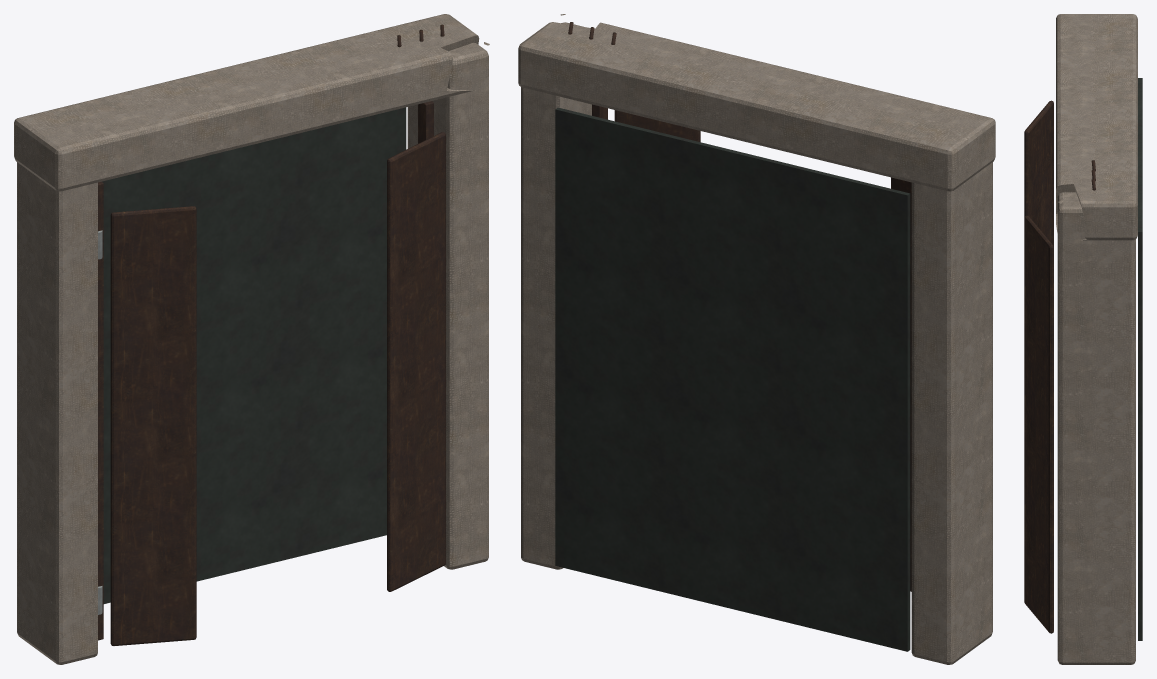
Rendered from lod0_NOT_APPROVED.glb.
3 views of the same model, side by side, from view 1: azimuth 30°, elevation 25°; view 2: azimuth 150°, elevation 25°; view 3: azimuth 270°, elevation 25° (orthographic). The views are drawn at different scales.
Parts seen in each view (by area): view 1: f3_weathered_concrete_surface, f3_deep_crack_surface, f3_oxidized_iron_surface; view 2: f3_deep_crack_surface, f3_weathered_concrete_surface, f3_oxidized_iron_surface; view 3: f3_weathered_concrete_surface, f3_oxidized_iron_surface, f3_deep_crack_surface.
Part boxes in pixels (x1=…): f3_weathered_concrete_surface: x1=14, y1=14, x2=489, y2=664; f3_deep_crack_surface: x1=102, y1=107, x2=406, y2=603; f3_oxidized_iron_surface: x1=98, y1=24, x2=445, y2=645; f3_deep_crack_surface: x1=555, y1=107, x2=910, y2=651; f3_weathered_concrete_surface: x1=518, y1=14, x2=995, y2=664; f3_oxidized_iron_surface: x1=568, y1=22, x2=911, y2=591; f3_weathered_concrete_surface: x1=1056, y1=14, x2=1137, y2=664; f3_oxidized_iron_surface: x1=1024, y1=100, x2=1095, y2=633; f3_deep_crack_surface: x1=1138, y1=78, x2=1142, y2=640.
Bounding box in the file's own units: 3.75 × 4.35 × 0.9829.
Materials: 4 (4 with a texture image).
